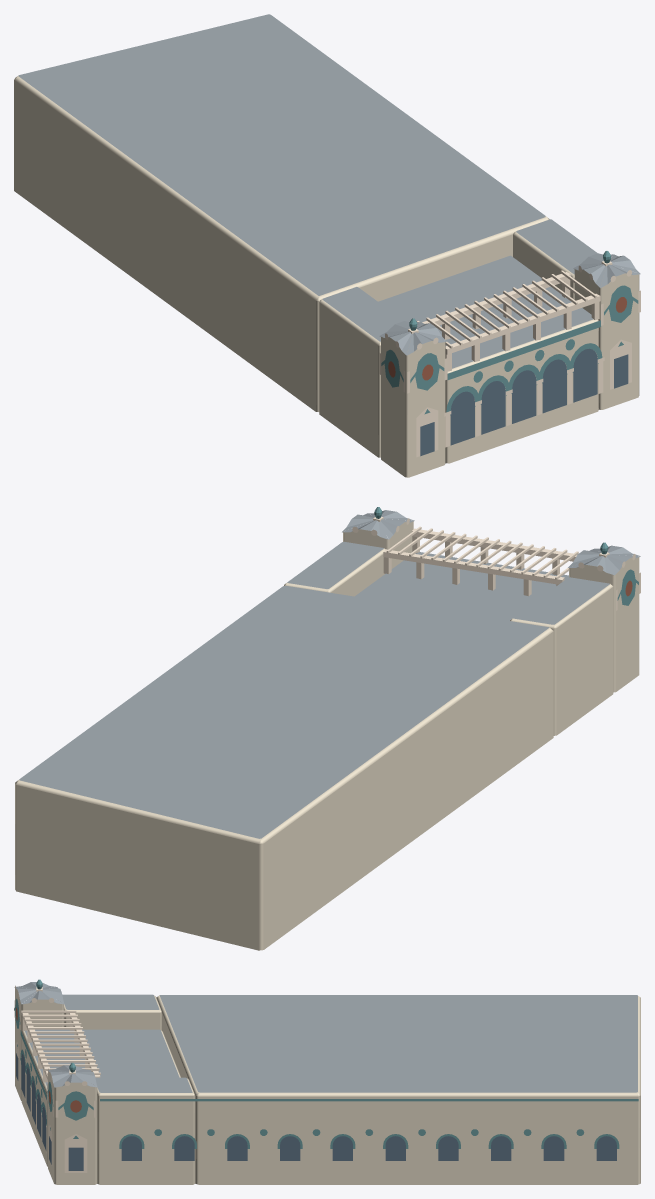
The model's file is nyc-childs-coney-island.glb.
The picture shows the model from 3 angles, top to bottom: view 1: azimuth 30°, elevation 25°; view 2: azimuth 150°, elevation 25°; view 3: azimuth 270°, elevation 25°; orthographic projection. The views are drawn at different scales.
Visible parts, largest first — view 1: Childs Restaurant, Coney Island; view 2: Childs Restaurant, Coney Island; view 3: Childs Restaurant, Coney Island.
Boxes of the visible parts, bbox=[...] form: Childs Restaurant, Coney Island: bbox=[14, 14, 640, 477]; Childs Restaurant, Coney Island: bbox=[15, 507, 640, 950]; Childs Restaurant, Coney Island: bbox=[14, 979, 640, 1184].
Size of the model in its own units: 30.58 by 16 by 79.96.
